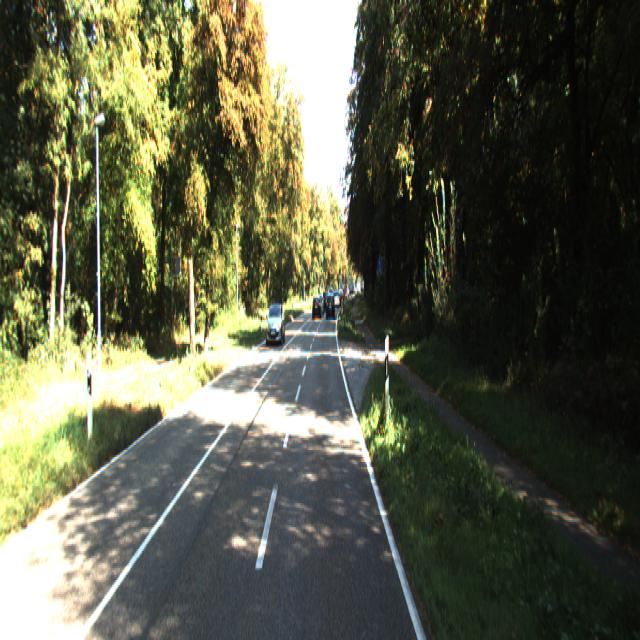Car: (265, 299, 286, 343)
